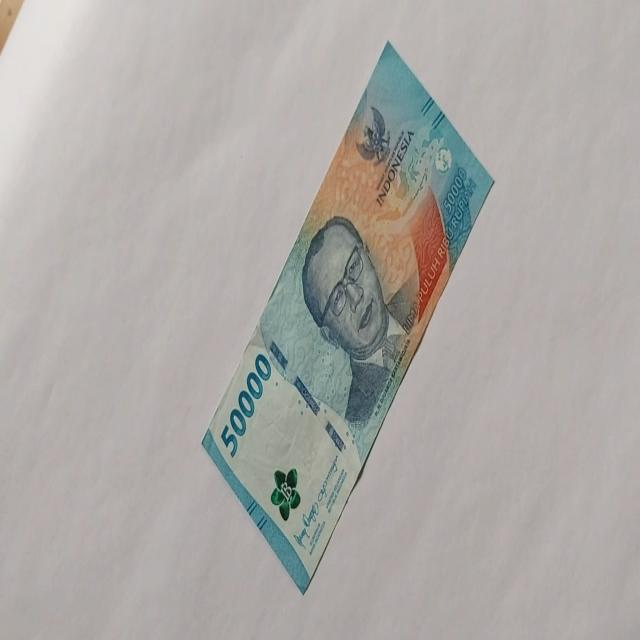lima puluh ribu rupiah: (200, 38, 495, 595), (300, 212, 415, 458), (218, 351, 272, 459)
